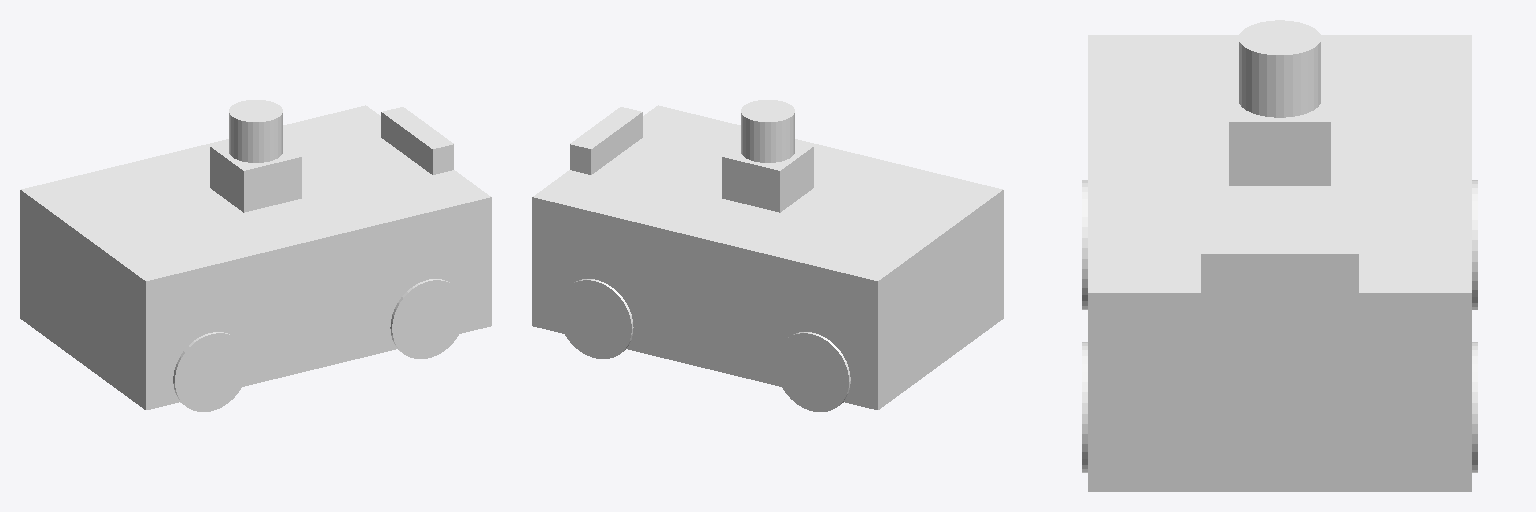
robot.urdf — simulation:
<?xml version="1.0" encoding="utf-8"?>
<!-- This URDF was automatically created by SolidWorks to URDF Exporter! Originally created by Stephen Brawner (brawner@gmail.com) 
     Commit Version: 1.6.0-4-g7f85cfe  Build Version: 1.6.7995.38578
     For more information, please see http://wiki.ros.org/sw_urdf_exporter -->
<robot
  name="simulation">
  <link name="base_link"/>
  <joint name="base_to_dummy_base" type="fixed">
    <parent link="base_link"/>
    <child link="dummy_base_link"/>
    <origin xyz="0 0 0" rpy="-1.57079632 0 0"/>
  </joint>
 
  <link
    name="dummy_base_link">
    <inertial>
      <origin
        xyz="0 0 0"
        rpy="0 0 0" />
      <mass
        value="3.604" />
      <inertia
        ixx="0.019228842"
        ixy="0"
        ixz="0"
        iyy="0.041483542"
        iyz="0"
        izz="0.051326967" />
    </inertial>
    <visual>
      <origin
        xyz="0 0 0"
        rpy="0 0 0" />
      <geometry>
        <mesh
          filename="package://simulation/meshes/base_link.STL" />
      </geometry>
      <material
        name="">
        <color
          rgba="1 1 1 1" />
      </material>
    </visual>
    <collision>
      <origin
        xyz="0 0 0"
        rpy="0 0 0" />
      <geometry>
        <mesh
          filename="package://simulation/meshes/base_link.STL" />
      </geometry>
    </collision>
  </link>
  
  
  <link
    name="wheel_rr">
    <inertial>
      <origin
        xyz="0 0 0"
        rpy="0 0 0" />
      <mass
        value="0.048" />
      <inertia
        ixx="0.000020836"
        ixy="0"
        ixz="0"
        iyy="0.000020836"
        iyz="0"
        izz="0.000033481" />
    </inertial>
    <visual>
      <origin
        xyz="0 0 0"
        rpy="0 0 0" />
      <geometry>
        <mesh
          filename="package://simulation/meshes/wheel_rr.STL" />
      </geometry>
      <material
        name="">
        <color
          rgba="1 1 1 1" />
      </material>
    </visual>
    <collision>
      <origin
        xyz="0 0 0"
        rpy="0 0 0" />
      <geometry>
        <mesh
          filename="package://simulation/meshes/wheel_rr.STL" />
      </geometry>
    </collision>
    <gazebo reference="wheel_rr">
      <mu1>0.9</mu1>
      <mu2>0.2</mu2>
    </gazebo>
  </link>
  
  
  <joint
    name="rr"
    type="continuous">
    <origin
      xyz="-0.11 0.0398 -0.081"
      rpy="3.14159265358979 0 -0.38439092475999" />
    <parent
      link="dummy_base_link" />
    <child
      link="wheel_rr" />
    <axis
      xyz="0 0 1" />
  </joint>
  
  
  <link
    name="wheel_fr">
    <inertial>
      <origin
        xyz="0 0 0"
        rpy="0 0 0" />
      <mass
        value="0.048" />
      <inertia
        ixx="0.000020836"
        ixy="0"
        ixz="0"
        iyy="0.000020836"
        iyz="0"
        izz="0.000033481" />
    </inertial>
    <visual>
      <origin
        xyz="0 0 0"
        rpy="0 0 0" />
      <geometry>
        <mesh
          filename="package://simulation/meshes/wheel_fr.STL" />
      </geometry>
      <material
        name="">
        <color
          rgba="1 1 1 1" />
      </material>
    </visual>
    <collision>
      <origin
        xyz="0 0 0"
        rpy="0 0 0" />
      <geometry>
        <mesh
          filename="package://simulation/meshes/wheel_fr.STL" />
      </geometry>
    </collision>
    <gazebo reference="wheel_fr">
      <mu1>0.9</mu1>
      <mu2>0.2</mu2>
    </gazebo>
  </link>
  
  
  <joint
    name="fr"
    type="continuous">
    <origin
      xyz="0.11 0.0398 -0.0810000000000001"
      rpy="-3.14159265358979 0 2.30073611878519" />
    <parent
      link="dummy_base_link" />
    <child
      link="wheel_fr" />
    <axis
      xyz="0 0 1" />
  </joint>
  
  
  <link
    name="wheel_rl">
    <inertial>
      <origin
        xyz="0 0 0"
        rpy="0 0 0" />
      <mass
        value="0.048" />
      <inertia
        ixx="0.000020836"
        ixy="0"
        ixz="0"
        iyy="0.000020836"
        iyz="0"
        izz="0.000033481" />
    </inertial>
    <visual>
      <origin
        xyz="0 0 0"
        rpy="0 0 0" />
      <geometry>
        <mesh
          filename="package://simulation/meshes/wheel_rl.STL" />
      </geometry>
      <material
        name="">
        <color
          rgba="1 1 1 1" />
      </material>
    </visual>
    <collision>
      <origin
        xyz="0 0 0"
        rpy="0 0 0" />
      <geometry>
        <mesh
          filename="package://simulation/meshes/wheel_rl.STL" />
      </geometry>
    </collision>
    <gazebo reference="wheel_rl">
      <mu1>0.9</mu1>
      <mu2>0.2</mu2>
    </gazebo>
  </link>
  
  
  <joint
    name="rl"
    type="continuous">
    <origin
      xyz="-0.11 0.0398 0.081"
      rpy="0 0 -2.82199394083601" />
    <parent
      link="dummy_base_link" />
    <child
      link="wheel_rl" />
    <axis
      xyz="0 0 1" />
  </joint>
  
  
  <link
    name="wheel_fl">
    <inertial>
      <origin
        xyz="0 0 0"
        rpy="0 0 0" />
      <mass
        value="0.048" />
      <inertia
        ixx="0.000020836"
        ixy="0"
        ixz="0"
        iyy="0.000020836"
        iyz="0"
        izz="0.000033481" />
    </inertial>
    <visual>
      <origin
        xyz="0 0 0"
        rpy="0 0 0" />
      <geometry>
        <mesh
          filename="package://simulation/meshes/wheel_fl.STL" />
      </geometry>
      <material
        name="">
        <color
          rgba="1 1 1 1" />
      </material>
    </visual>
    <collision>
      <origin
        xyz="0 0 0"
        rpy="0 0 0" />
      <geometry>
        <mesh
          filename="package://simulation/meshes/wheel_fl.STL" />
      </geometry>
    </collision>
    <gazebo reference="wheel_fl">
      <mu1>0.9</mu1>
      <mu2>0.2</mu2>
    </gazebo>
  </link>
  
  
  <joint
    name="fl"
    type="continuous">
    <origin
      xyz="0.11 0.0398 0.081"
      rpy="0 0 -2.82199394083601" />
    <parent
      link="dummy_base_link" />
    <child
      link="wheel_fl" />
    <axis
      xyz="0 0 1" />
  </joint>
 
 
  <link
    name="camera">
    <inertial>
      <origin
        xyz="0 0 0.01251"
        rpy="0 0 0" />
      <mass
        value="0.072" />
      <inertia
        ixx="0.000017944"
        ixy="0"
        ixz="0"
        iyy="0.000063430"
        iyz="0"
        izz="0.000051326" />
    </inertial>
    <visual>
      <origin
        xyz="0 0 0"
        rpy="0 0 0" />
      <geometry>
        <mesh
          filename="package://simulation/meshes/camera.STL" />
      </geometry>
      <material
        name="">
        <color
          rgba="1 1 1 1" />
      </material>
    </visual>
    <collision>
      <origin
        xyz="0 0 0"
        rpy="0 0 0" />
      <geometry>
        <mesh
          filename="package://simulation/meshes/camera.STL" />
      </geometry>
    </collision>
  </link>
  
  
  <joint
    name="cam"
    type="fixed">
    <origin
      xyz="0.16397 -0.0625 0"
      rpy="1.5707963267949 -1.5707963267949 0" />
    <parent
      link="dummy_base_link" />
    <child
      link="camera" />
    <axis
      xyz="0 0 0" />
  </joint>
 
 
  <link
    name="raspberry_pi">
    <inertial>
      <origin
        xyz="0 0.015 0"
        rpy="0 0 0" />
      <mass
        value="0.098" />
      <inertia
        ixx="0.000063904"
        ixy="0"
        ixz="0"
        iyy="0.000104229"
        iyz="0"
        izz="0.000099125" />
    </inertial>
    <visual>
      <origin
        xyz="0 0 0"
        rpy="0 0 0" />
      <geometry>
        <mesh
          filename="package://simulation/meshes/raspberry_pi.STL" />
      </geometry>
      <material
        name="">
        <color
          rgba="1 1 1 1" />
      </material>
    </visual>
    <collision>
      <origin
        xyz="0 0 0"
        rpy="0 0 0" />
      <geometry>
        <mesh
          filename="package://simulation/meshes/raspberry_pi.STL" />
      </geometry>
    </collision>
  </link>
 
 
  <joint
    name="ras"
    type="fixed">
    <origin
      xyz="0.11741 -0.0625 0"
      rpy="0 -1.5707963267949 0" />
    <parent
      link="dummy_base_link" />
    <child
      link="raspberry_pi" />
    <axis
      xyz="0 0 0" />
  </joint>
  
  
  <link
    name="radar">
    <inertial>
      <origin
        xyz="0 0.033435 0"
        rpy="0 0 0" />
      <mass
        value="0.056" />
      <inertia
        ixx="0.000103234"
        ixy="0"
        ixz="0"
        iyy="0.000026815"
        iyz="0"
        izz="0.000103234" />
    </inertial>
    <visual>
      <origin
        xyz="0 0 0"
        rpy="0 0 0" />
      <geometry>
        <mesh
          filename="package://simulation/meshes/radar.STL" />
      </geometry>
      <material
        name="">
        <color
          rgba="1 1 1 1" />
      </material>
    </visual>
    <collision>
      <origin
        xyz="0 0 0"
        rpy="0 0 0" />
      <geometry>
        <mesh
          filename="package://simulation/meshes/radar.STL" />
      </geometry>
    </collision>
  </link>
  
  
  <joint
    name="rad"
    type="fixed">
    <origin
      xyz="0 -0.0625 0"
      rpy="3.14159265358979 0 0" />
    <parent
      link="dummy_base_link" />
    <child
      link="radar" />
    <axis
      xyz="0 0 0" />
    </joint>


  <link
    name="radar_cylinder">
    <inertial>
      <origin
        xyz="0 0 0"
        rpy="0 0 0" />
      <mass
        value="0.001" />
      <inertia
        ixx="1e-08"
        ixy="0"
        ixz="0"
        iyy="1e-08"
        iyz="0"
        izz="1e-08" />
    </inertial>
  </link>


  <joint
    name="radar_to_cylinder"
    type="fixed">
    <origin
      xyz="0 0.055 0"
      rpy="-1.57079632679 0 0" />
    <parent
      link="radar" />
    <child
      link="radar_cylinder" />
    <axis
      xyz="0 0 0" />
  </joint>


  <gazebo reference="radar_cylinder">
    <sensor type="ray" name="radar_laser_sensor">
      <pose>0 0 0 0 0 0</pose>
      <visualize>true</visualize>
      <update_rate>30</update_rate>
      <ray>
        <scan>
          <horizontal>
            <samples>1080</samples>
            <resolution>1</resolution>
            <min_angle>-2.35619449</min_angle>
            <max_angle>2.35619449</max_angle>
          </horizontal>
        </scan>
        <range>
          <min>0.1</min>
          <max>100.0</max>
          <resolution>0.001</resolution>
        </range>
      </ray>
      <plugin name="gazebo_ros_laser" filename="libgazebo_ros_laser.so">
        <topicName>/scan</topicName>
        <frameName>radar_cylinder</frameName>
      </plugin>
    </sensor>
  </gazebo>


  <gazebo reference="camera">
    <sensor type="camera" name="front_camera_sensor">
      <pose>0 0 0 0 0 0</pose>
      <update_rate>30</update_rate>
      <camera>
        <horizontal_fov>1.3962634</horizontal_fov>
        <image>
          <width>640</width>
          <height>480</height>
          <format>R8G8B8</format>
        </image>
        <clip>
          <near>0.05</near>
          <far>50.0</far>
        </clip>
      </camera>
      <plugin name="gazebo_ros_camera" filename="libgazebo_ros_camera.so">
        <alwaysOn>true</alwaysOn>
        <updateRate>30.0</updateRate>
        <cameraName>camera</cameraName>
        <imageTopicName>/rgb/image_raw</imageTopicName>
        <cameraInfoTopicName>/rgb/camera_info</cameraInfoTopicName>
        <frameName>camera</frameName>
      </plugin>
    </sensor>
  </gazebo>


  <gazebo>
    <plugin name="gazebo_ros_planar_move" filename="libgazebo_ros_planar_move.so">
      <commandTopic>cmd_vel</commandTopic>
      <odometryTopic>odom</odometryTopic>
      <odometryFrame>odom</odometryFrame>
      <robotBaseFrame>base_footprint</robotBaseFrame>
      <publishTF>true</publishTF>
      <publishOdometry>true</publishOdometry>
      <updateRate>50.0</updateRate>
    </plugin>
  </gazebo>


  </robot>

--- What the picture shows (computed from the rendered views, not written in the file) ---
3 views of the same robot in one strip: view 1: azimuth 30°, elevation 25°; view 2: azimuth 150°, elevation 25°; view 3: azimuth 270°, elevation 25° (orthographic).
Model simulation with 10 links and 9 joints (4 continuous, 5 fixed), rooted at base_link, posed every joint at zero.
Visible links, largest first — view 1: dummy_base_link, radar, wheel_fr, wheel_rr, camera, raspberry_pi; view 2: dummy_base_link, radar, wheel_fl, wheel_rl, camera, raspberry_pi; view 3: dummy_base_link, radar, camera, raspberry_pi, wheel_fr, wheel_fl, wheel_rr, wheel_rl.
Boxes of the visible links, x1,y1,x2,y2 form: dummy_base_link: (20, 105, 491, 409); radar: (210, 100, 301, 212); wheel_fr: (390, 279, 465, 358); wheel_rr: (173, 332, 248, 411); camera: (381, 107, 453, 174); raspberry_pi: (314, 138, 429, 191); dummy_base_link: (532, 105, 1003, 409); radar: (722, 100, 813, 212); wheel_fl: (558, 279, 633, 358); wheel_rl: (775, 332, 850, 411); camera: (570, 107, 642, 174); raspberry_pi: (594, 142, 709, 191); dummy_base_link: (1088, 35, 1471, 491); radar: (1229, 20, 1330, 185); camera: (1201, 238, 1358, 292); raspberry_pi: (1199, 227, 1360, 254); wheel_fr: (1082, 342, 1087, 472); wheel_fl: (1472, 342, 1477, 472); wheel_rr: (1082, 180, 1087, 309); wheel_rl: (1472, 180, 1477, 309).
Size in the robot's own frame: 0.35 by 0.226 by 0.2194 metres.
Meshes: 8 distinct files referenced, 8 mesh visuals loaded (8 binary STL).
